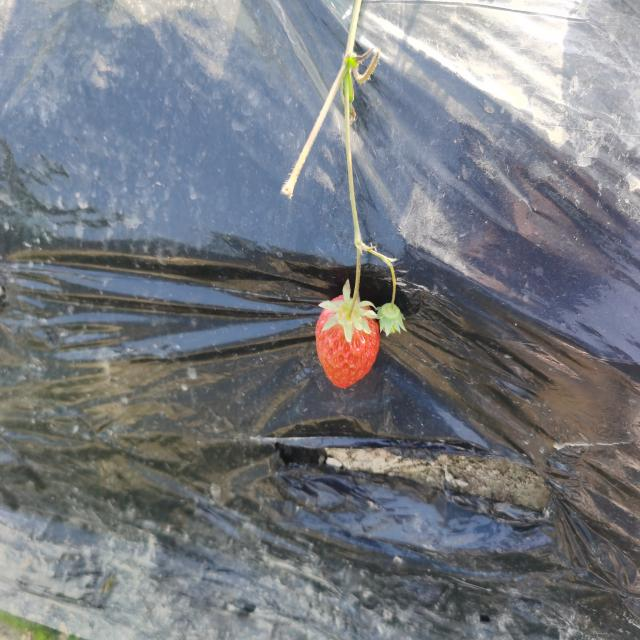stem: (346, 278, 360, 321)
strawberry: (315, 295, 379, 389)
